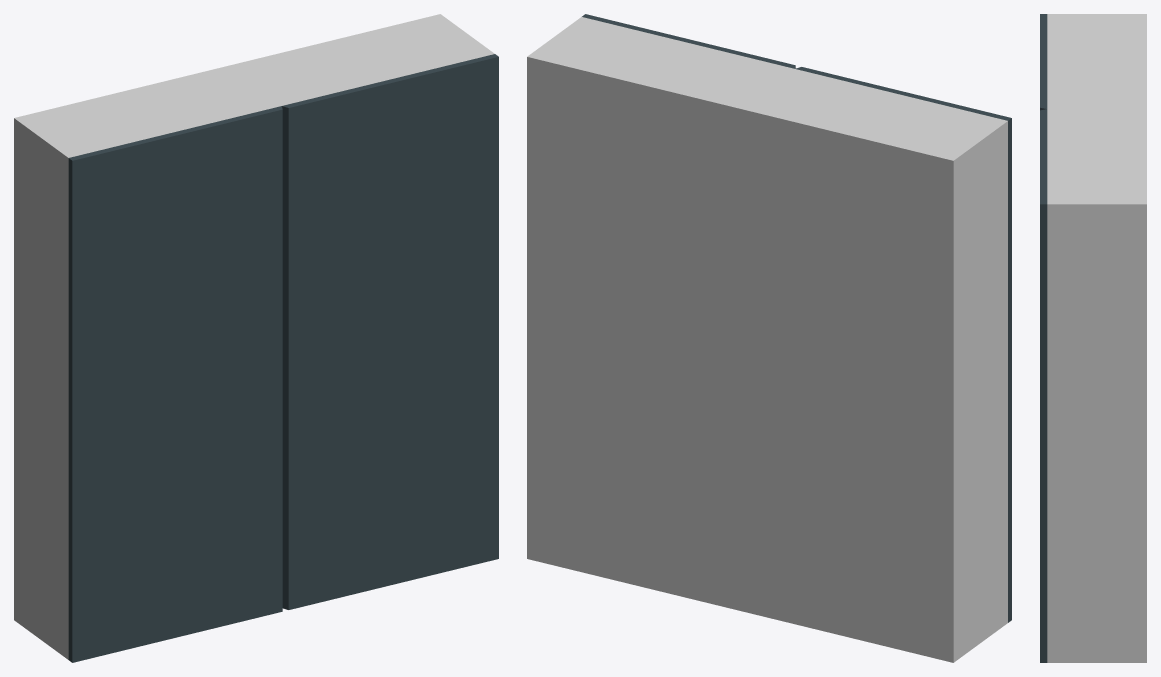
The model's file is furniture_mirror-cabinet.fbx.
3 views of the same model, side by side, from view 1: azimuth 30°, elevation 25°; view 2: azimuth 150°, elevation 25°; view 3: azimuth 270°, elevation 25° (orthographic). The views are drawn at different scales.
Visible parts, largest first — view 1: furniture_mirror_cabinet; view 2: furniture_mirror_cabinet; view 3: furniture_mirror_cabinet.
Boxes of the visible parts, bbox=[...] form: furniture_mirror_cabinet: bbox=[14, 14, 498, 662]; furniture_mirror_cabinet: bbox=[527, 14, 1011, 662]; furniture_mirror_cabinet: bbox=[1040, 14, 1146, 662].
Bounding box in the file's own units: 76.14 × 85.66 × 18.08.
